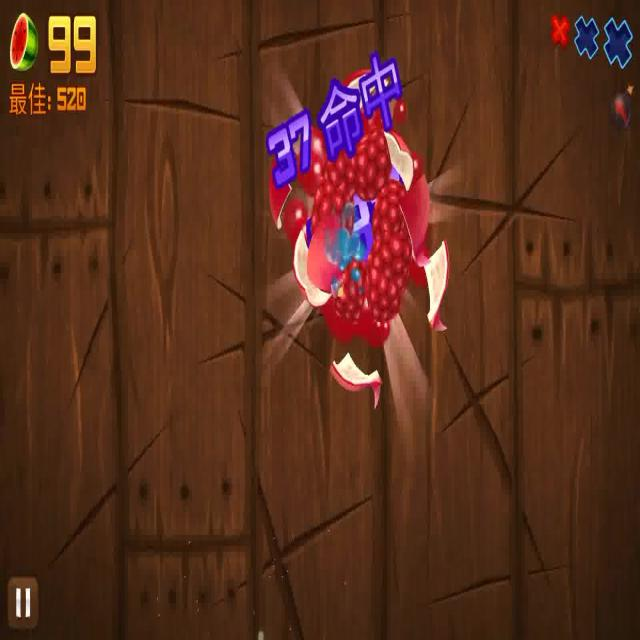fruit: (344, 133, 391, 201)
